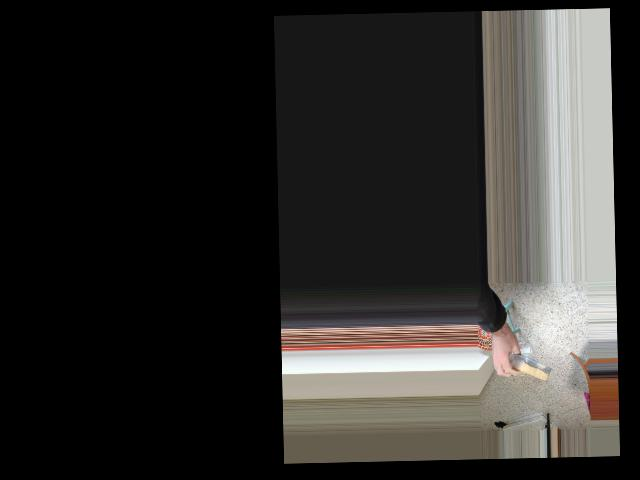cheese: (487, 341, 555, 396)
